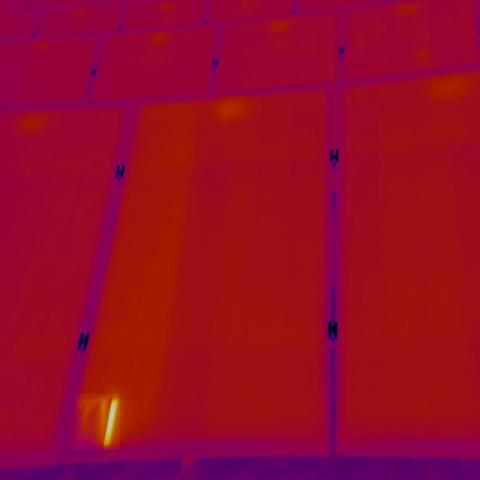fault: (75, 394, 120, 450)
